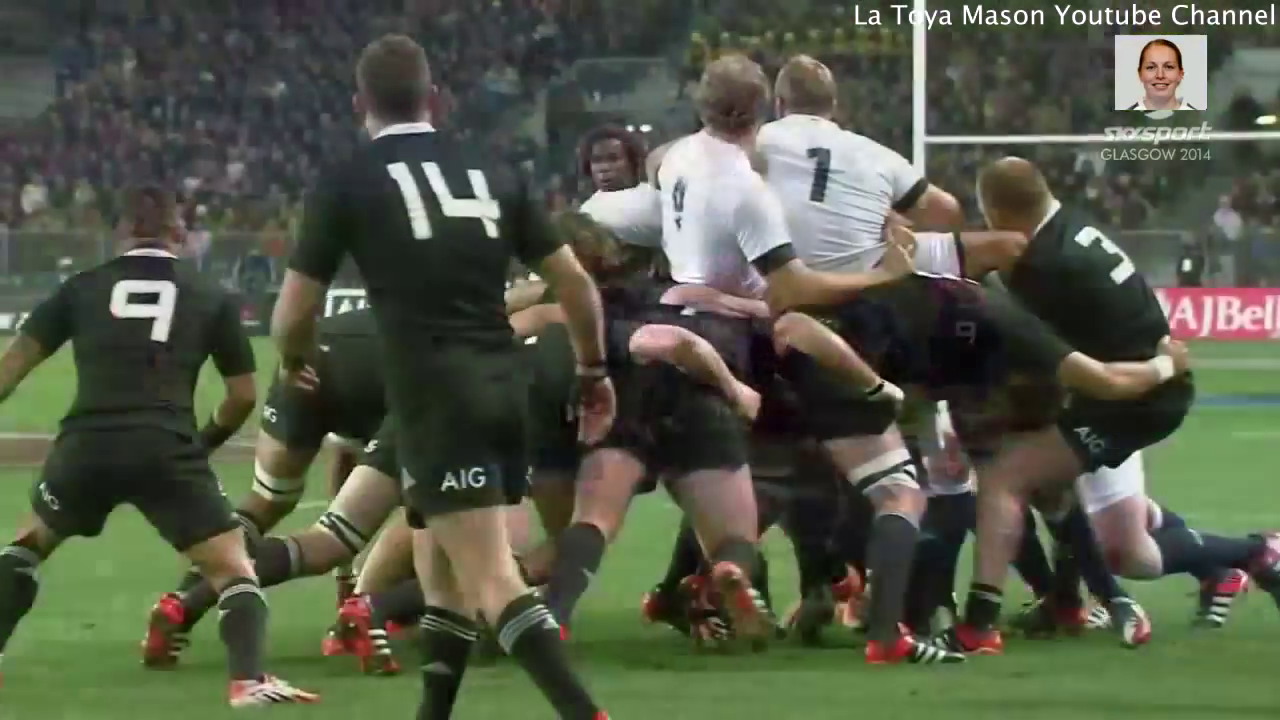player: (269, 25, 631, 720), (1, 162, 348, 711), (753, 263, 1198, 678), (953, 145, 1211, 690), (532, 253, 803, 689), (633, 35, 850, 323), (744, 44, 953, 291)
